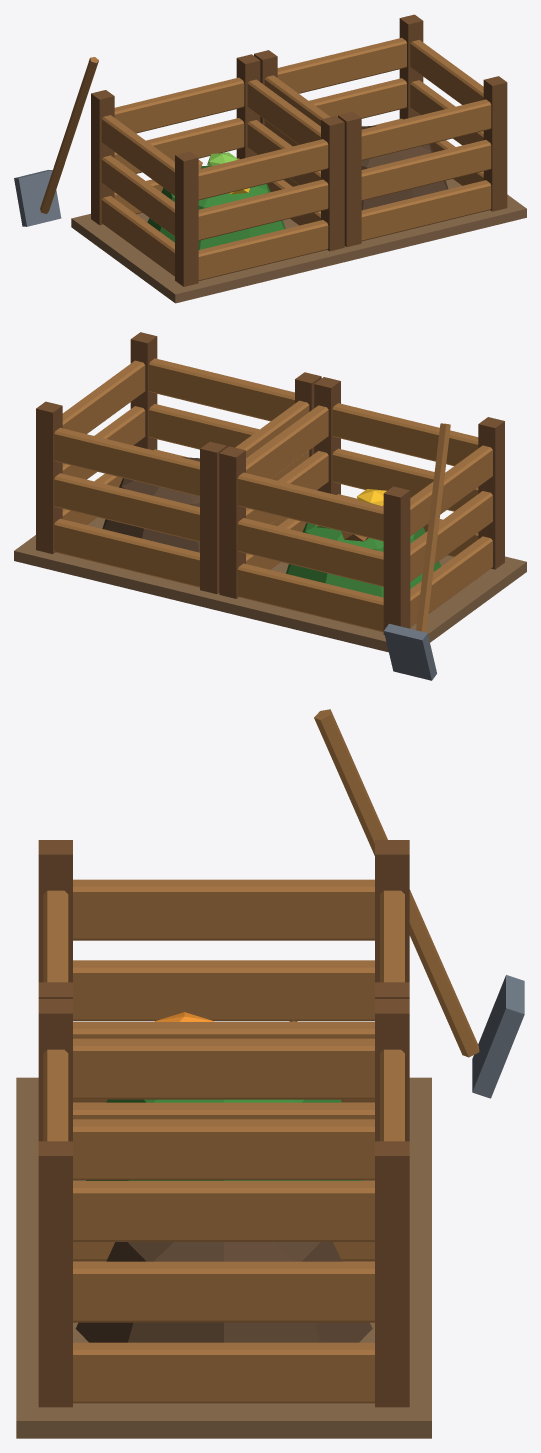
File: composteira.glb
3 views of the same model, one above another, from view 1: azimuth 30°, elevation 25°; view 2: azimuth 150°, elevation 25°; view 3: azimuth 270°, elevation 25° (orthographic). The views are drawn at different scales.
Visible parts, largest first — view 1: corpo; view 2: corpo; view 3: corpo.
Boxes of the visible parts, x1,y1,x2,y2 form: corpo: (14, 14, 526, 303); corpo: (14, 332, 526, 680); corpo: (16, 709, 524, 1438).
Bounding box in the file's own units: 0.9 × 0.4267 × 0.5136.
